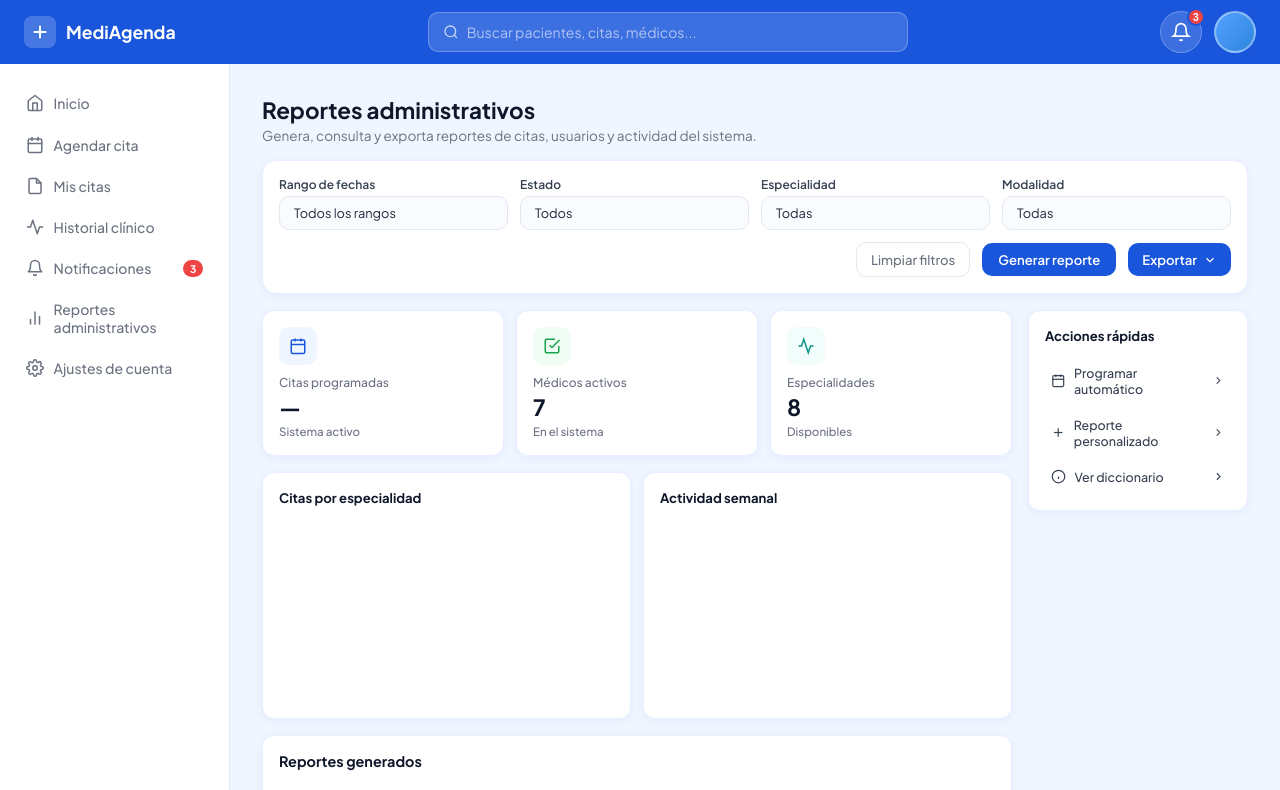
Test: Componente Reportes - MediAgenda › Acciones › debe abrir el dropdown de exportar al hacer clic
The image size is (1280, 790).
Click the button "Exportar" at (1180, 260), box left=1128, top=243, right=1231, bottom=276
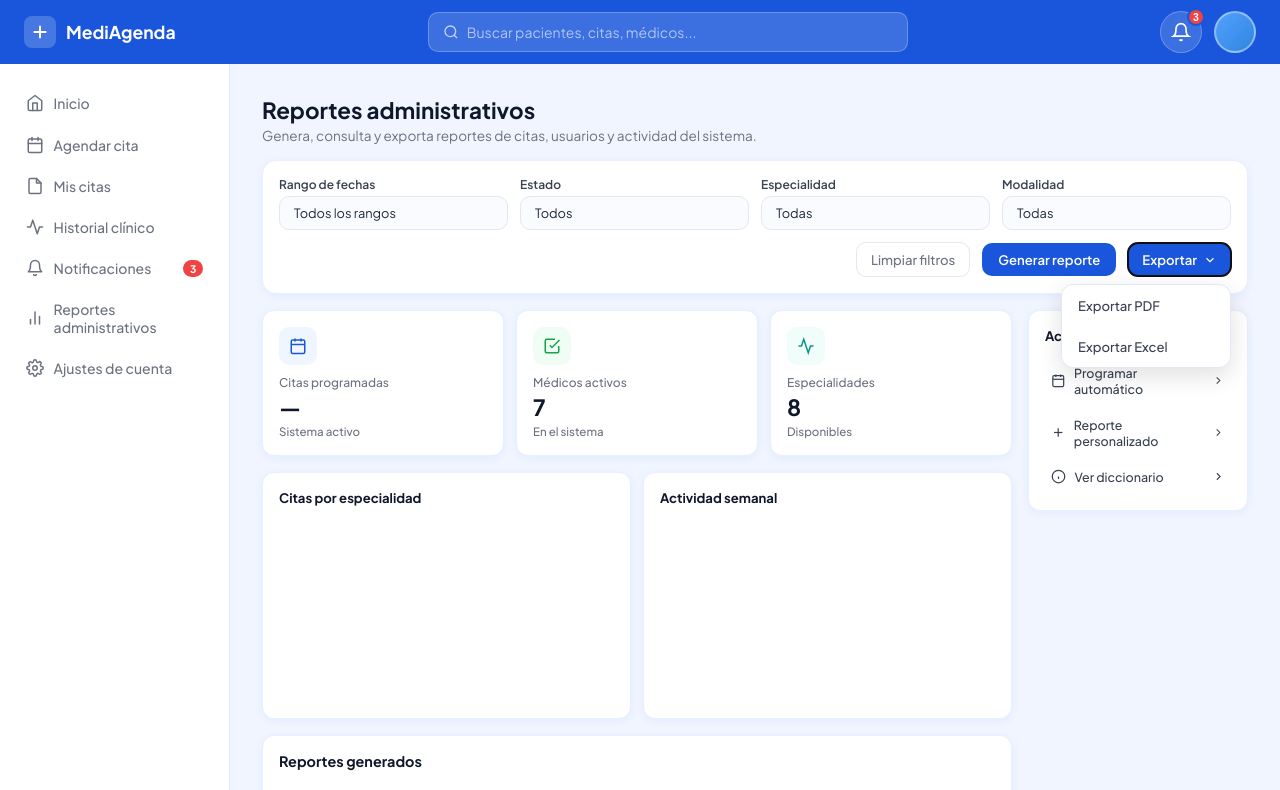
expect the button "Exportar PDF" is shown: met, box left=1062, top=285, right=1230, bottom=326
expect the button "Exportar Excel" is shown: met, box left=1062, top=326, right=1230, bottom=367
